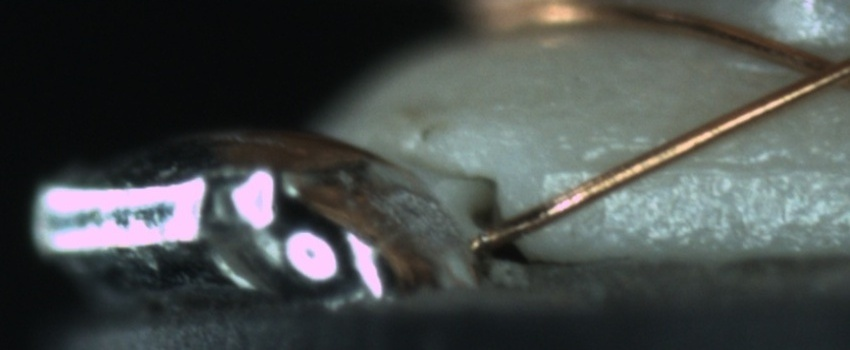CL: (771, 40, 849, 102)
DL: (555, 133, 849, 196)
